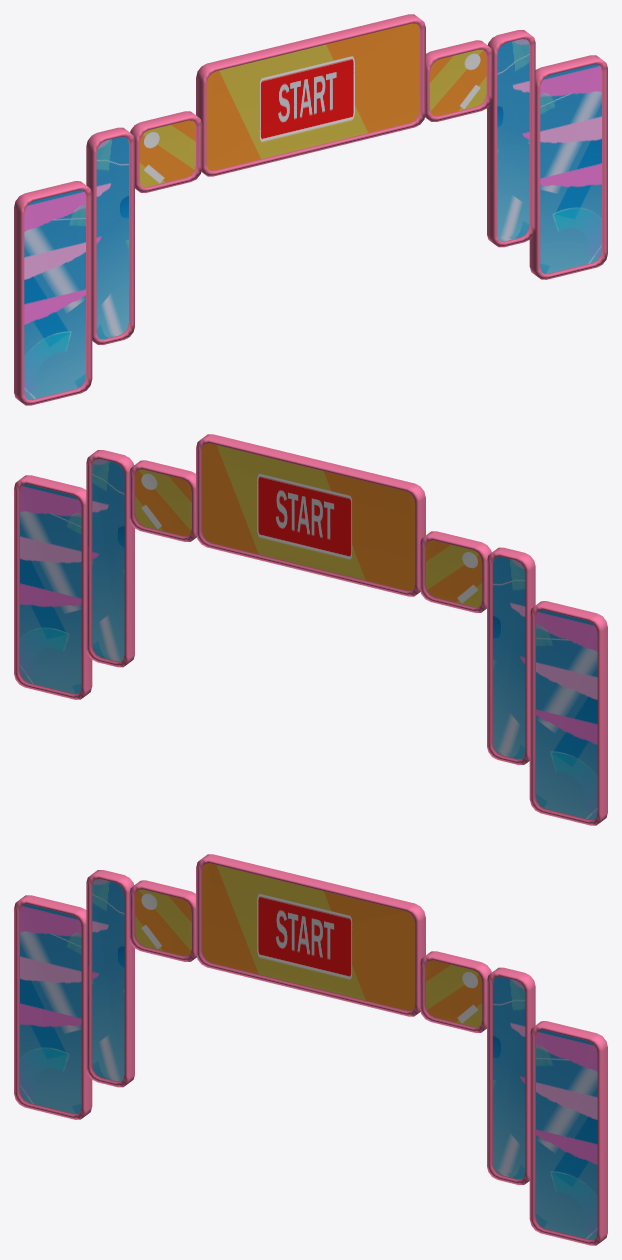
File: PLF0110008.fbx
The picture shows the model from 3 angles, top to bottom: view 1: azimuth 30°, elevation 25°; view 2: azimuth 150°, elevation 25°; view 3: azimuth 330°, elevation 25°; orthographic projection.
Parts seen in each view (by area): view 1: smPLF0110008; view 2: smPLF0110008; view 3: smPLF0110008.
Boxes of the visible parts, x1,y1,x2,y2 form: smPLF0110008: [14, 14, 607, 405]; smPLF0110008: [14, 434, 607, 825]; smPLF0110008: [14, 854, 607, 1245].
Bounding box in the file's own units: 1293 × 617 × 23.27.
Materials: 1 (1 with a texture image).
